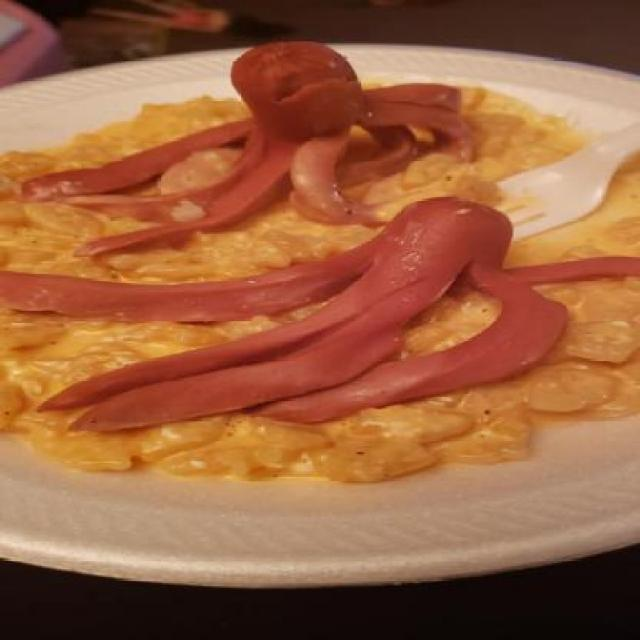macaroni and cheese: (1, 74, 639, 492)
